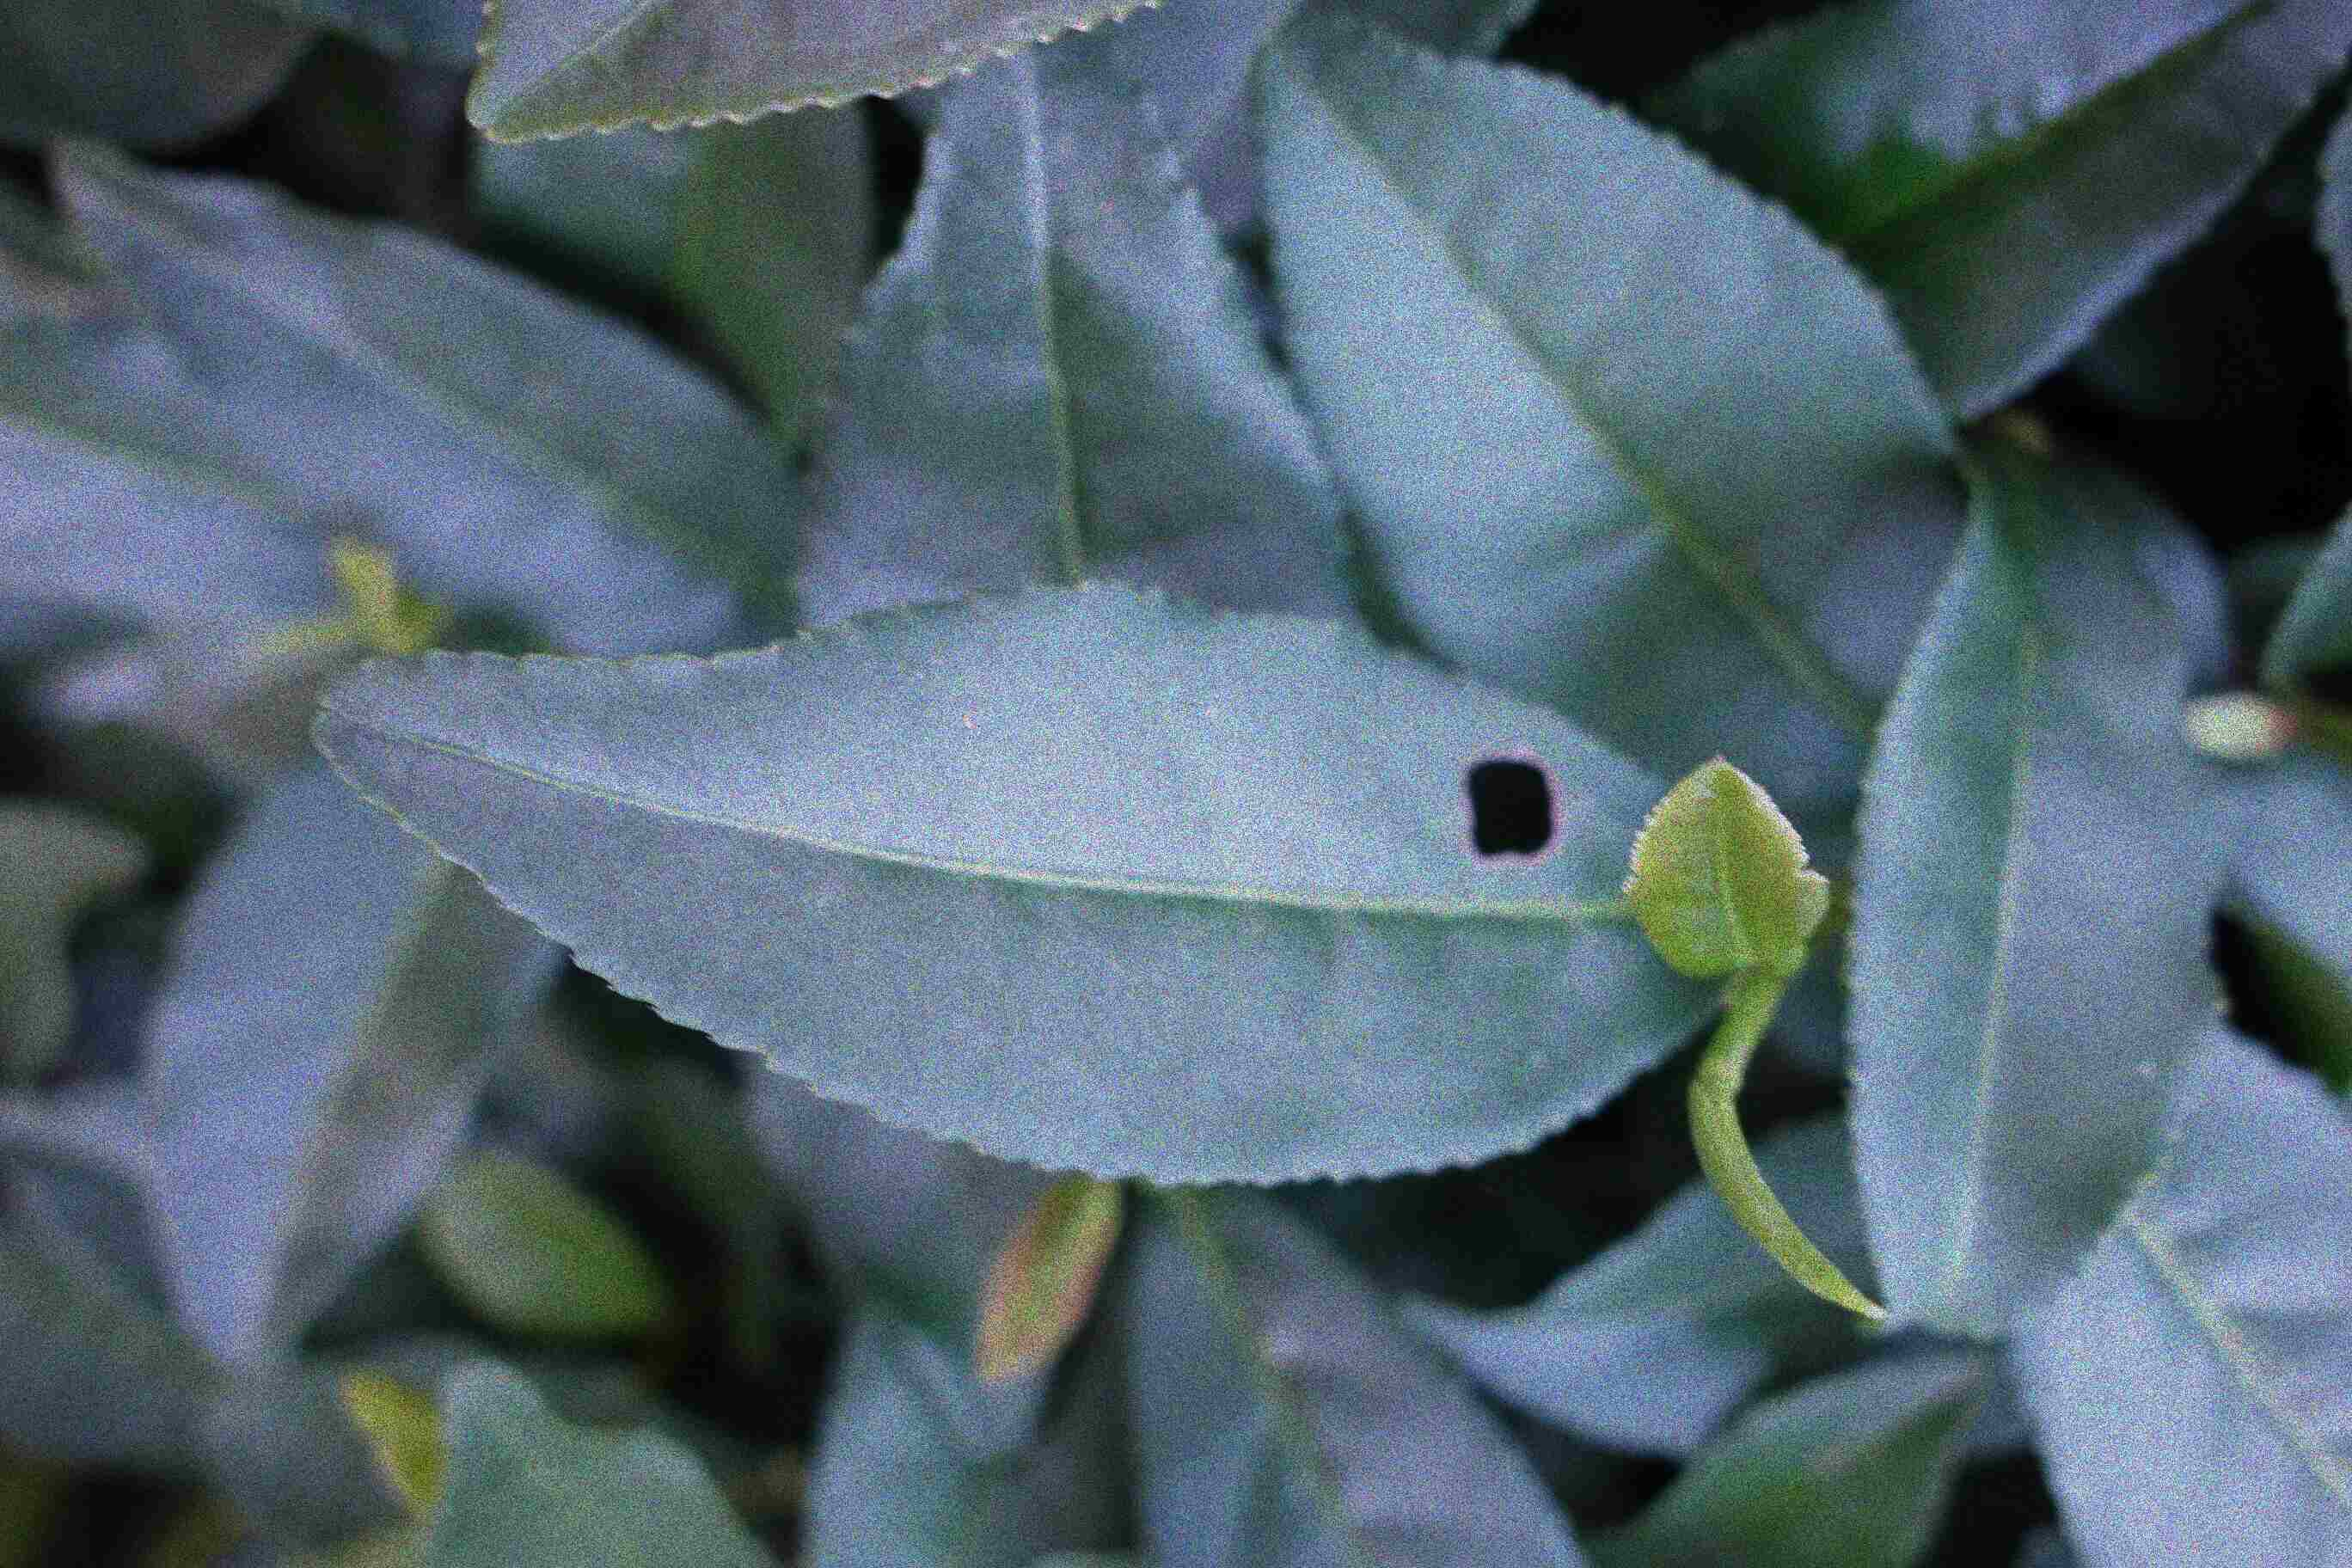chihuo_low: (311, 581, 1710, 1190)
tanju_low: (1626, 756, 1839, 983)
